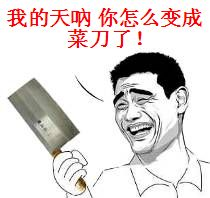knief: (9, 73, 90, 191)
